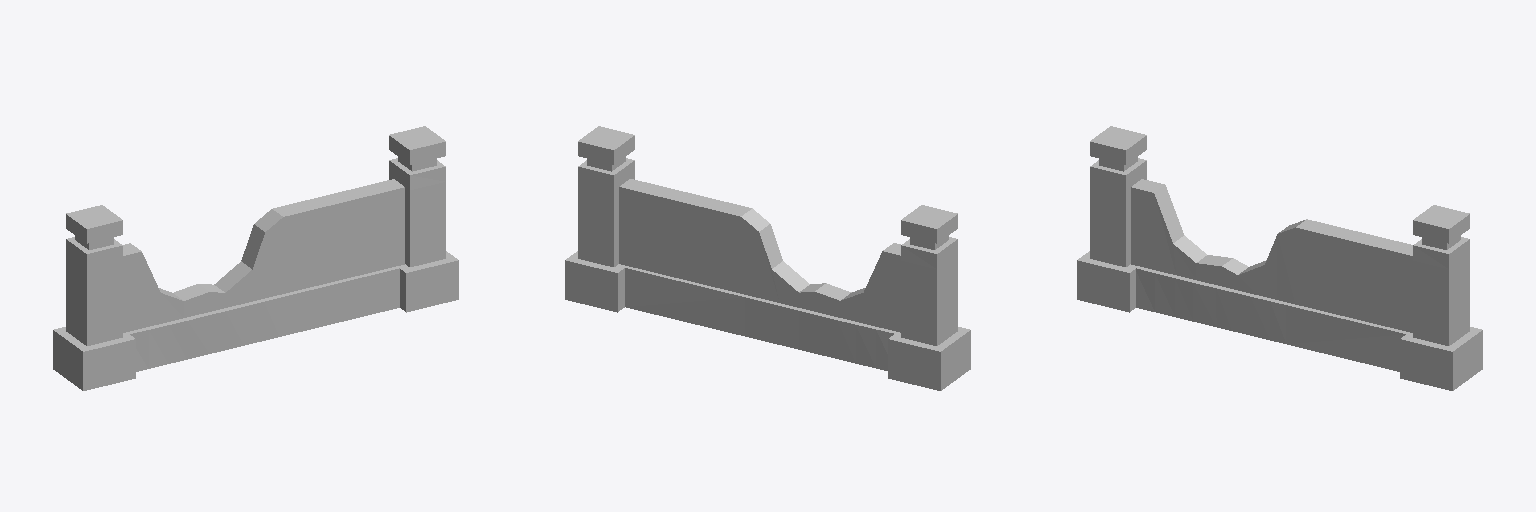
File: ruinwall_01.obj
3 views of the same model, side by side, from view 1: azimuth 30°, elevation 25°; view 2: azimuth 150°, elevation 25°; view 3: azimuth 330°, elevation 25° (orthographic).
Parts seen in each view (by area): view 1: polySurface2; view 2: polySurface2; view 3: polySurface2.
Part boxes in pixels (x1,y1,x2,y2): polySurface2: (53, 126, 458, 390); polySurface2: (565, 126, 970, 390); polySurface2: (1077, 126, 1482, 390).
Bounding box in the file's own units: 7.13 × 2.84 × 1.